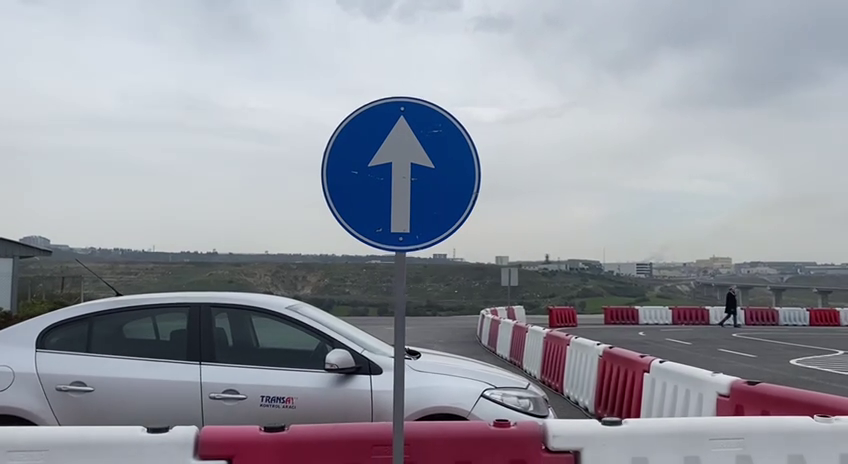forward: (317, 91, 483, 256)
